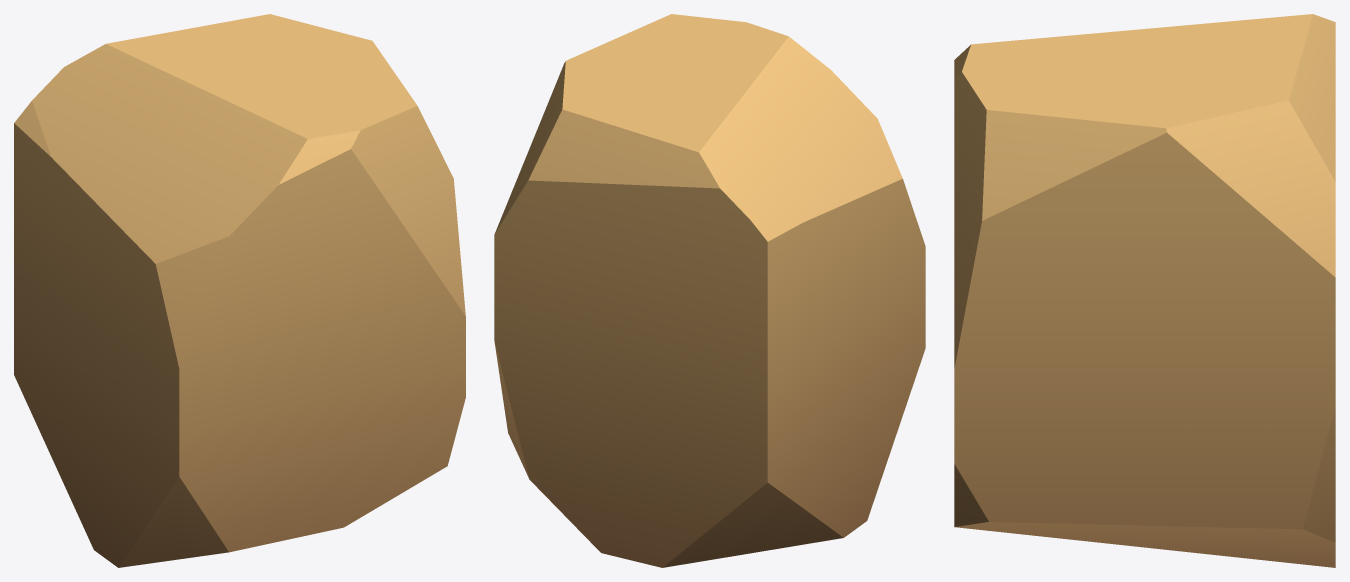
Rendered from rock01.fbx.
3 views of the same model, side by side, from view 1: azimuth 30°, elevation 25°; view 2: azimuth 150°, elevation 25°; view 3: azimuth 270°, elevation 25° (orthographic). The views are drawn at different scales.
Parts seen in each view (by area): view 1: Cube.015; view 2: Cube.015; view 3: Cube.015.
Boxes of the visible parts, bbox=[...] form: Cube.015: bbox=[14, 14, 465, 567]; Cube.015: bbox=[494, 14, 925, 567]; Cube.015: bbox=[954, 14, 1335, 567].
Size of the model in its own units: 96.76 by 140 by 96.76.
